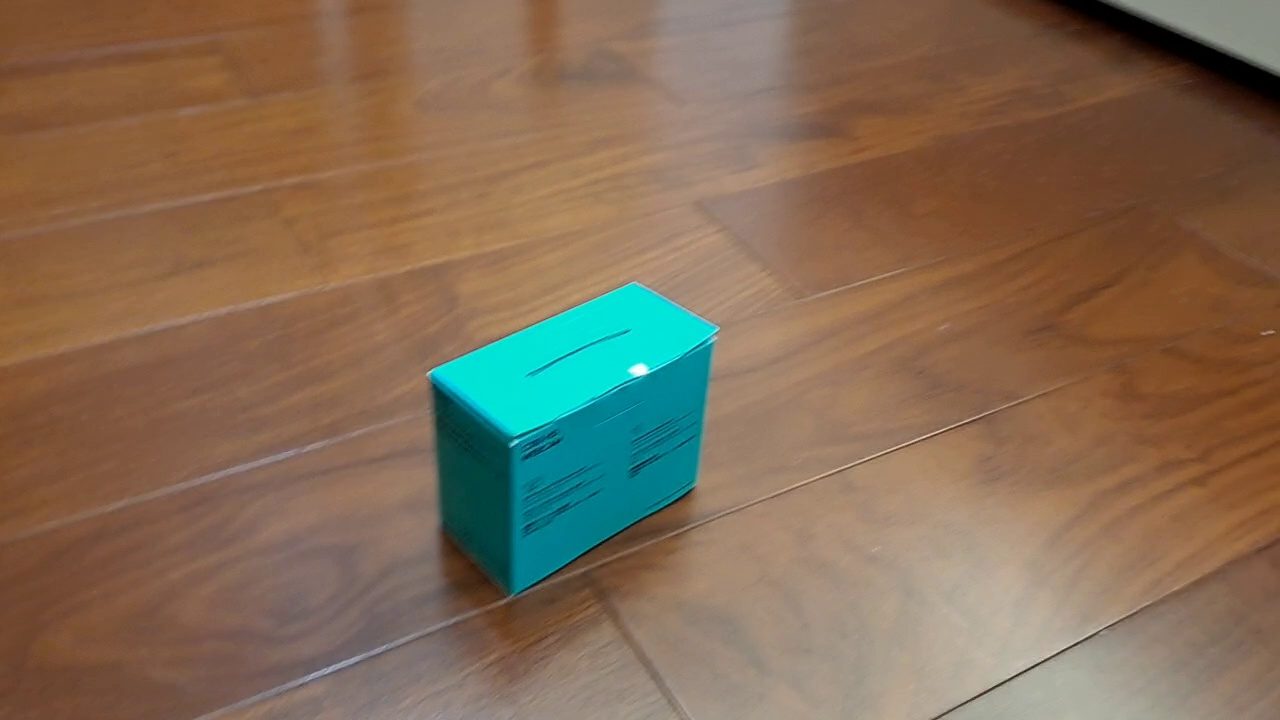webcam: (425, 279, 721, 600)
